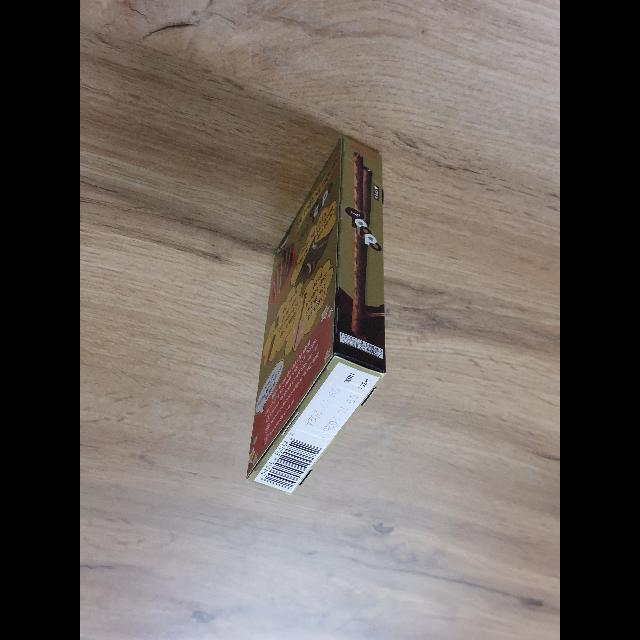banh_toppo_socola: (247, 134, 387, 491)
